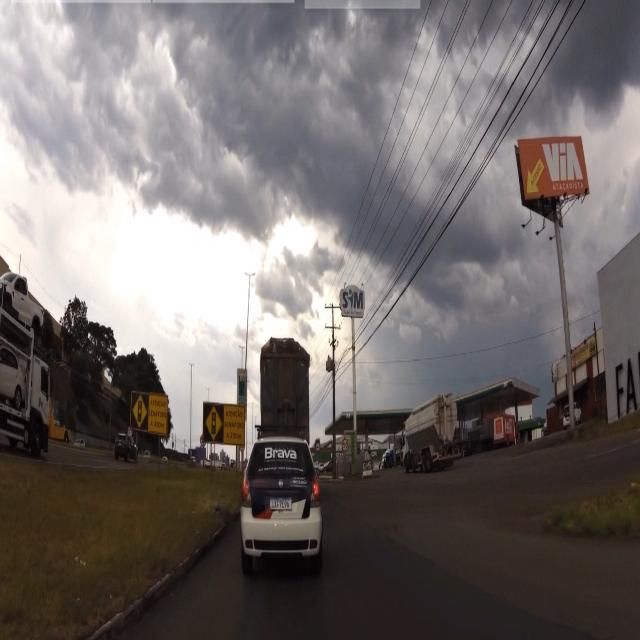A-14: (205, 404, 222, 442), (133, 396, 146, 427)
